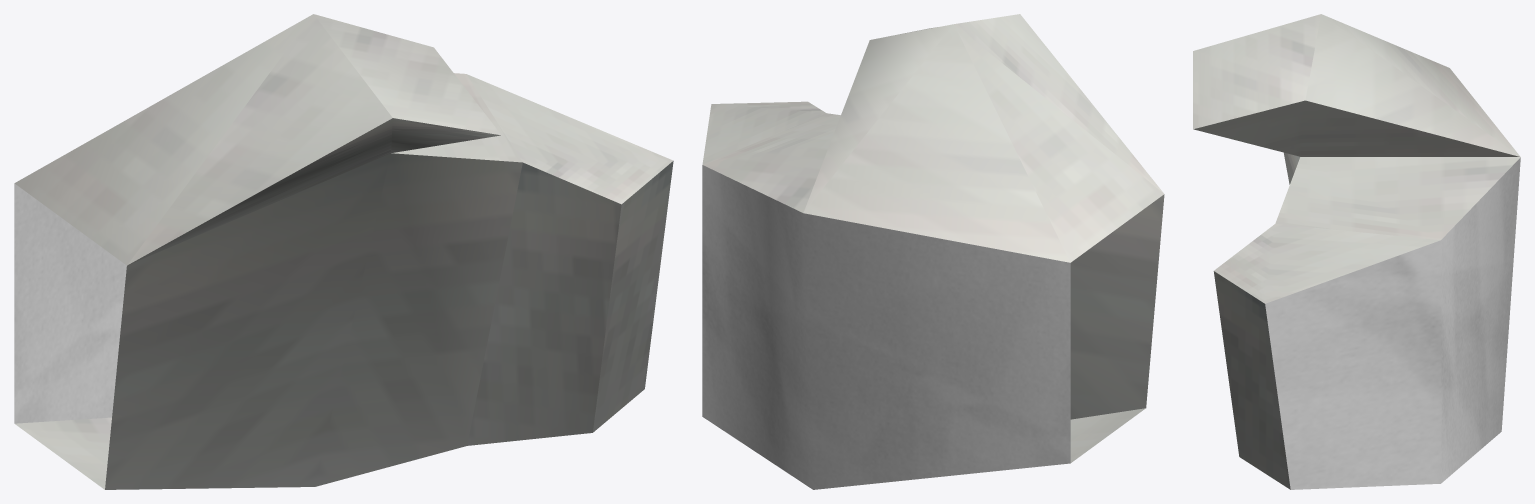
Rendered from human5.obj.
3 views of the same model, side by side, from view 1: azimuth 30°, elevation 25°; view 2: azimuth 150°, elevation 25°; view 3: azimuth 270°, elevation 25° (orthographic). The views are drawn at different scales.
Visible parts, largest first — view 1: ColobotMesh_1_ColobotMesh_; view 2: ColobotMesh_1_ColobotMesh_; view 3: ColobotMesh_1_ColobotMesh_.
Boxes of the visible parts, <box> form: ColobotMesh_1_ColobotMesh_: <box>14,14,673,489</box>; ColobotMesh_1_ColobotMesh_: <box>702,14,1164,489</box>; ColobotMesh_1_ColobotMesh_: <box>1193,14,1520,489</box>.
Size of the model in its own units: 0.9251 by 0.7986 by 0.5973.
